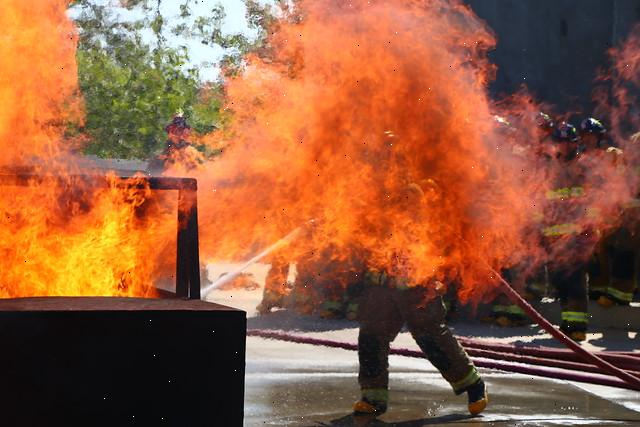fire: (0, 1, 640, 304)
